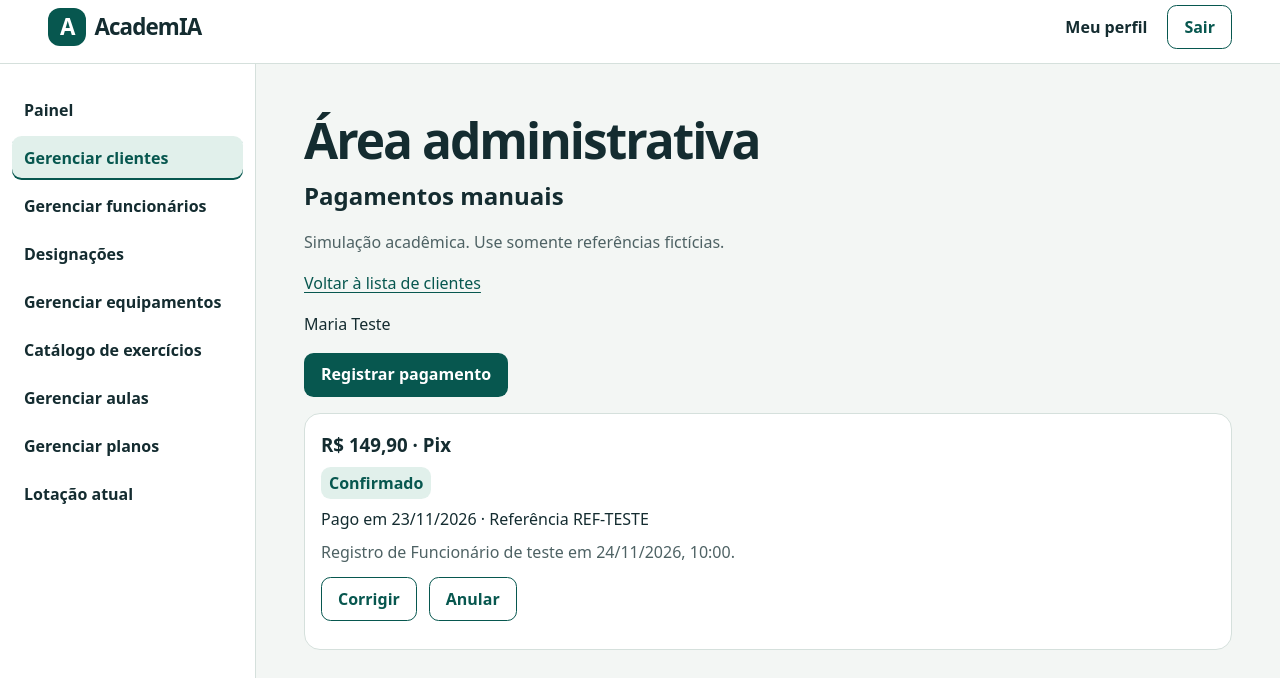
it: corrige um pagamento e preserva o anterior inativo, depois registra a anulação
The image size is (1280, 678).
Expected: the text "Confirmado" is shown, x1=321 y1=467 x2=431 y2=499
Click the button "Corrigir" at [369, 599], box x1=321 y1=577 x2=417 y2=621
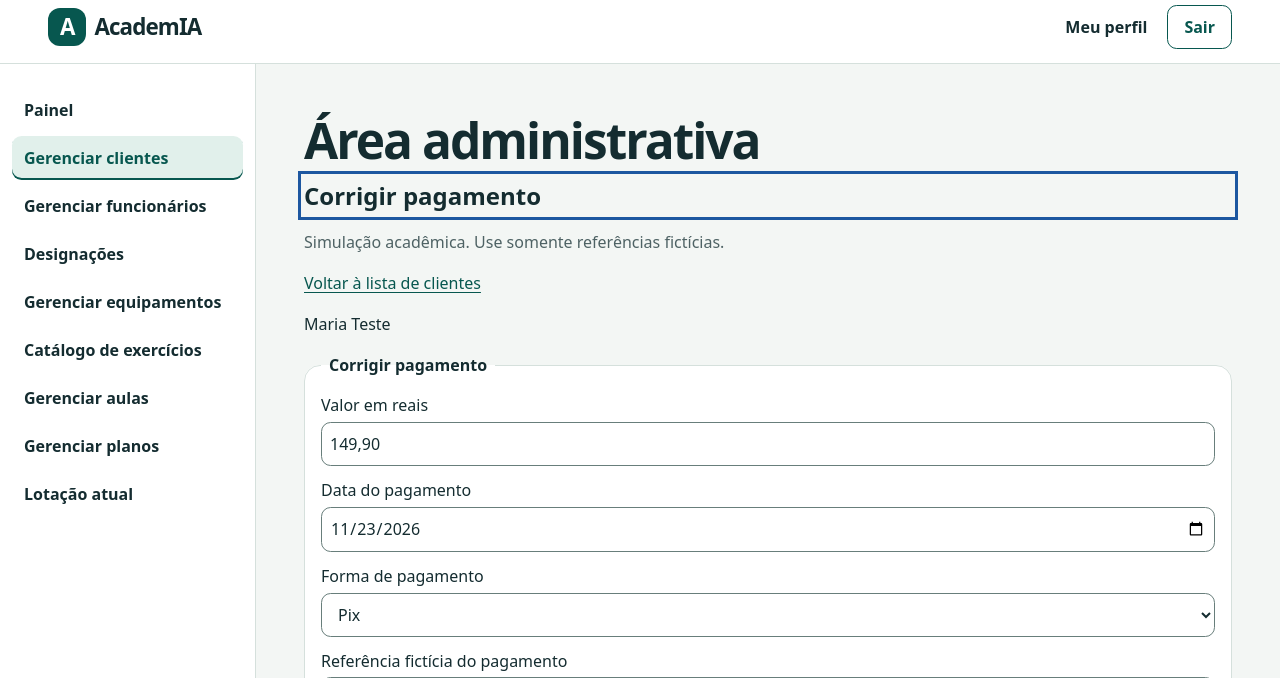
Result: the field labelled "Valor em reais" holds "149,90"
Replace the text in the field labelled "Valor em reais" with "120,00" at [768, 444], box x1=321 y1=422 x2=1215 y2=466
(page scrolled)
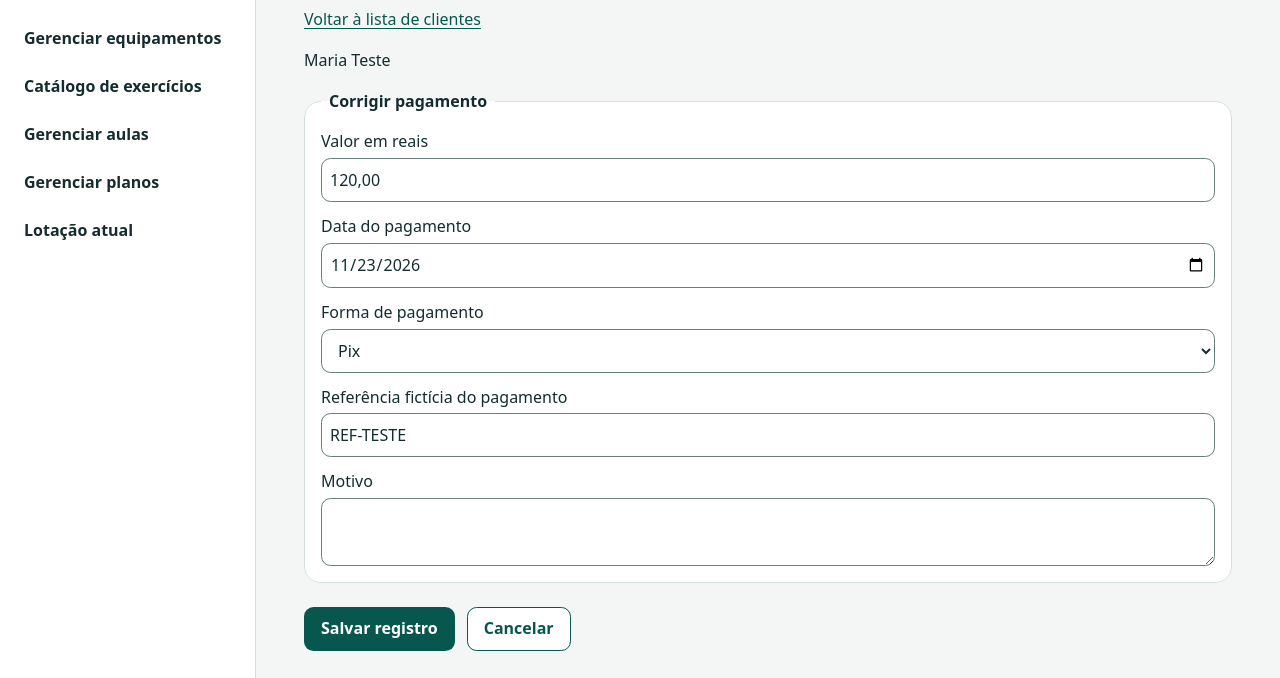
Type "Valor corrigido" into the text box labelled "Motivo" at [768, 532], box x1=321 y1=498 x2=1215 y2=566
Click the button "Salvar registro" at [379, 629], box x1=304 y1=607 x2=455 y2=651
(page scrolled)
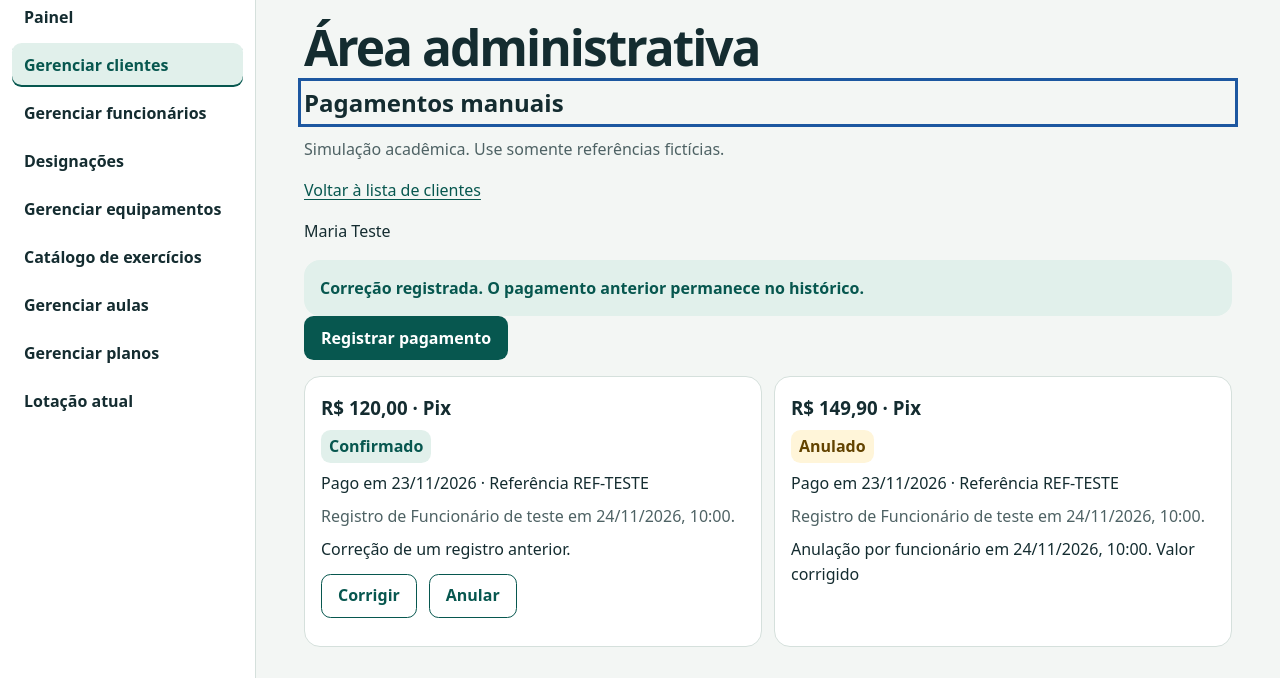
Result: the text "Correção registrada. O pagamento anterior permanece no histórico." is shown at x1=320 y1=277 x2=864 y2=299
Result: the text "Anulado" is shown at x1=791 y1=430 x2=874 y2=463
Click the button "Anular" at [473, 596], box x1=429 y1=574 x2=517 y2=618
(page scrolled)
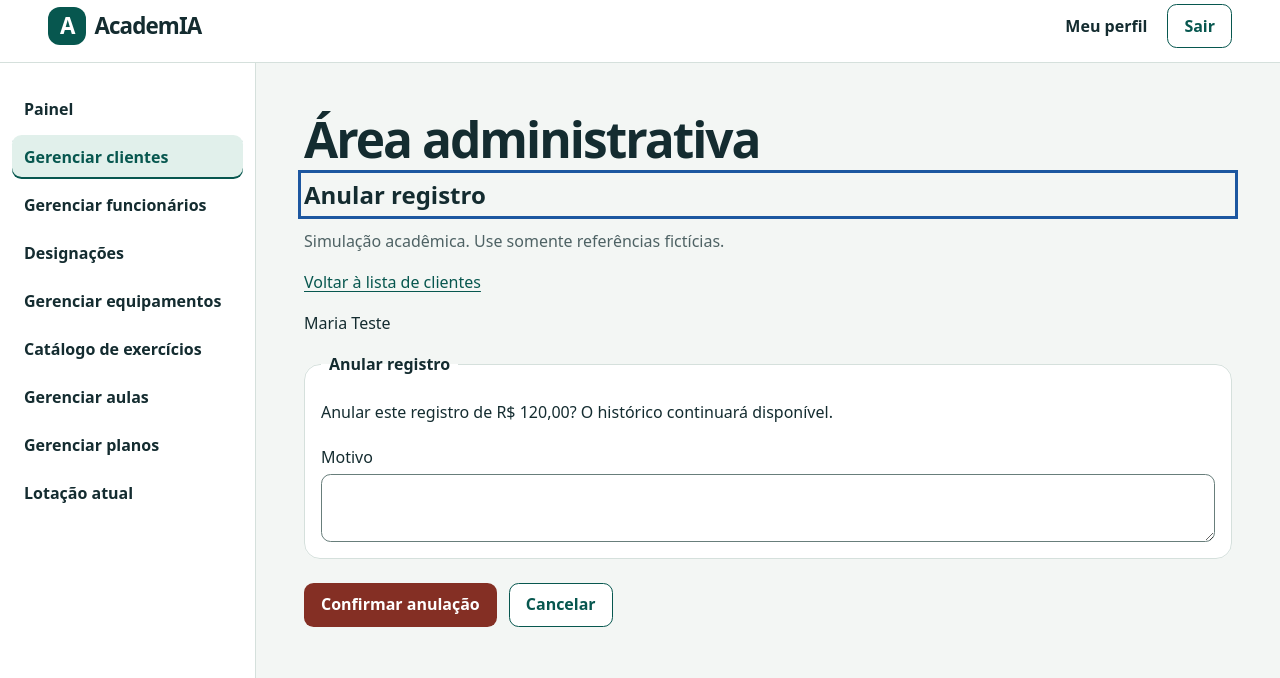
Type "Lançamento indevido" into the text box labelled "Motivo" at [768, 508], box x1=321 y1=474 x2=1215 y2=542
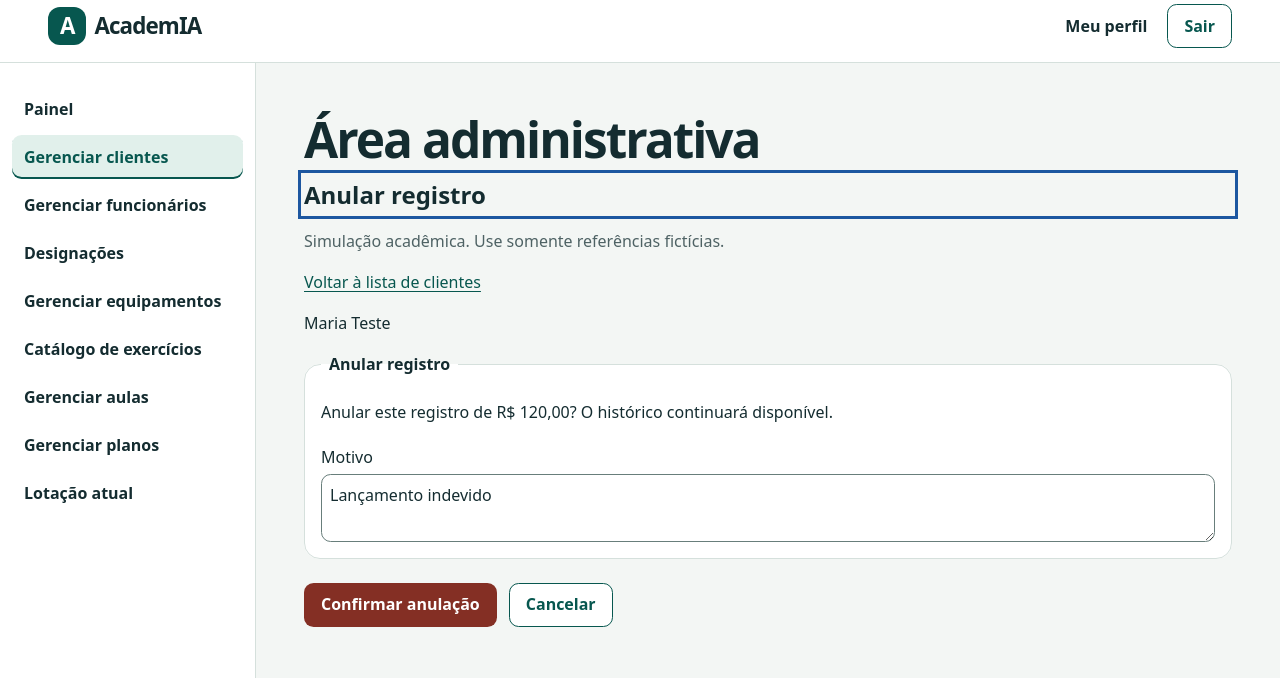
Click the button "Confirmar anulação" at [400, 605], box x1=304 y1=583 x2=497 y2=627
(page scrolled)
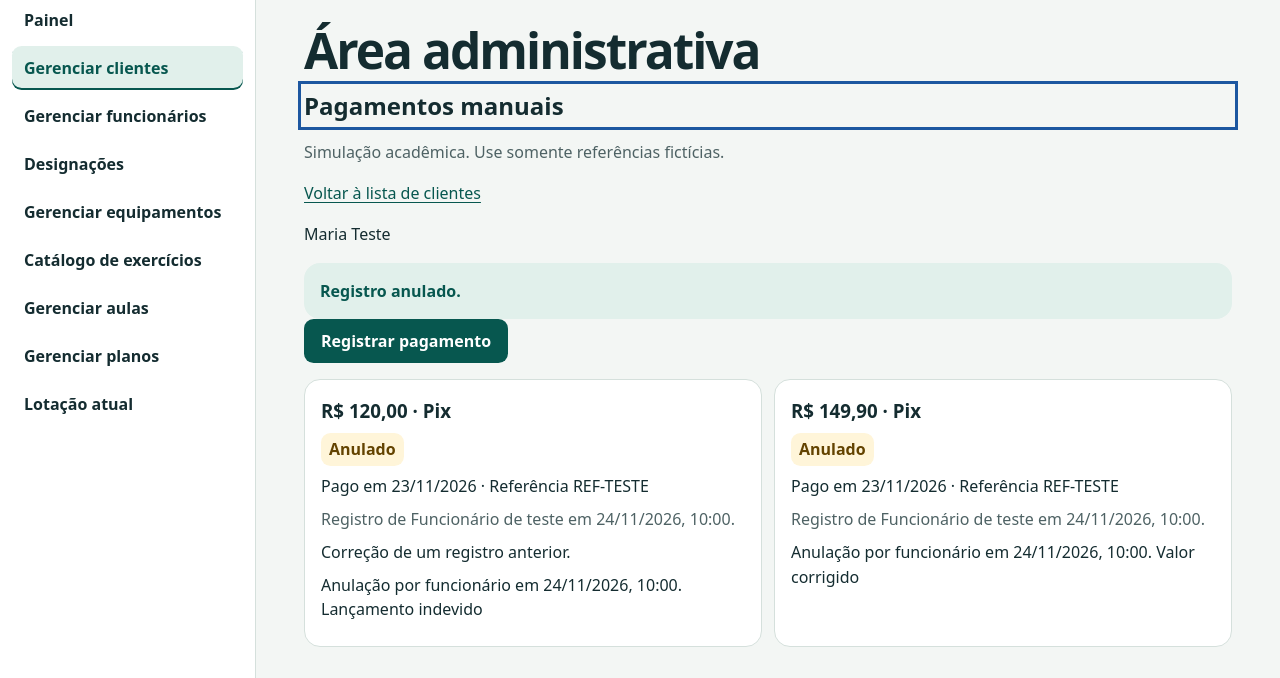
Expected: the button "Corrigir" is not shown
Result: the text "Registro anulado." is shown at x1=320 y1=280 x2=461 y2=302
Result: the text "Lançamento indevido" is shown at x1=321 y1=598 x2=483 y2=620
